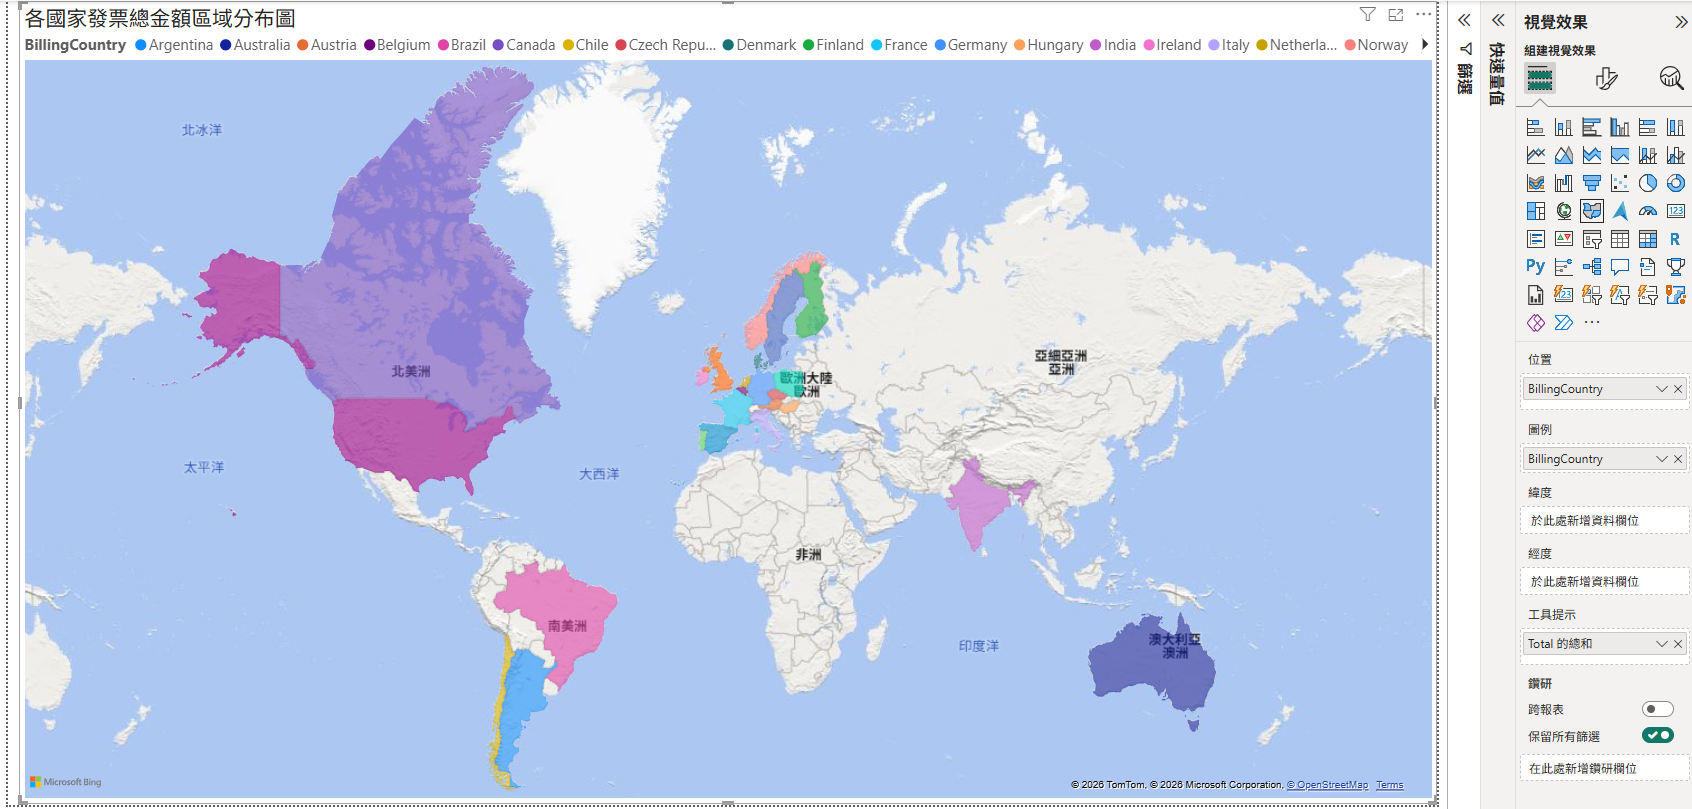

Layout of this report page (visuals, bound fields, positions):
{"tool":"powerbi","page":{"name":"第 2 頁","canvas":[1280,720],"ordinal":1},"visuals":[{"type":"filledMap","fields":{"Category":["Invoice.BillingCountry"]},"box":[9.7,0,719.8,719.8],"z":0}]}

Visuals, with their boxes on the page's 1280x720 design canvas (x1, y1, x2, y2). These are canvas units, not pixel positions in the 1692x809 screenshot, which may show the page scaled, cropped or inside an application window:
filledMap - Invoice.BillingCountry: region(10, 0, 730, 720)
